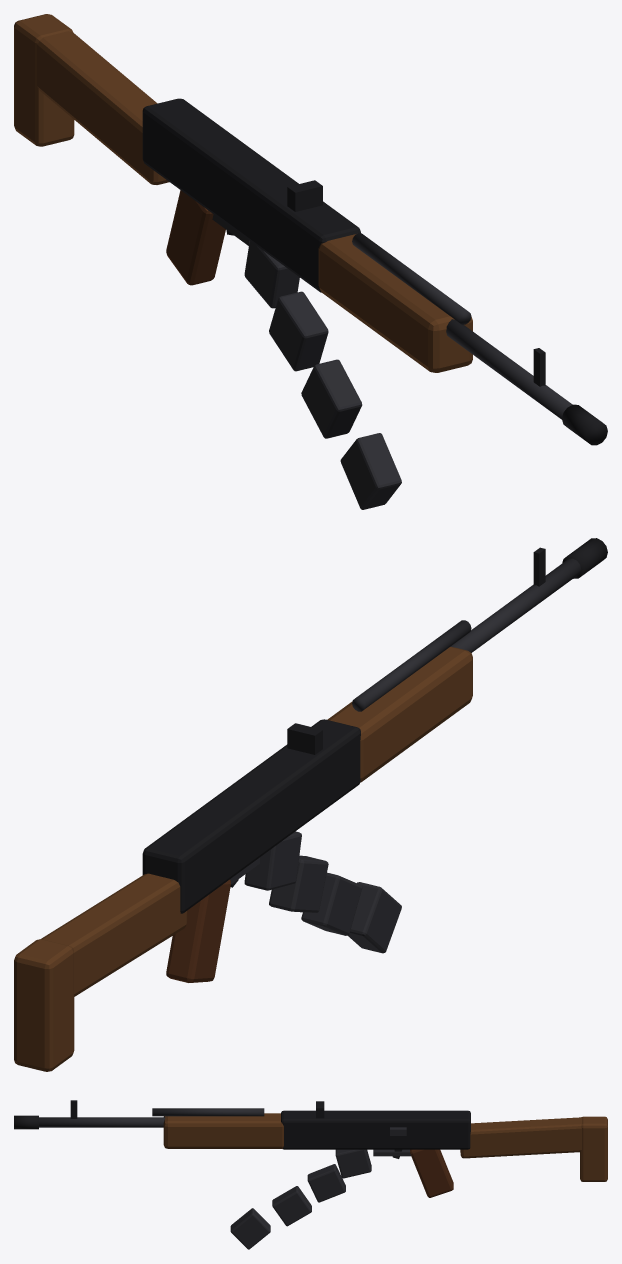
File: rifle.glb
3 renders of one model, top to bottom at view 1: azimuth 30°, elevation 25°; view 2: azimuth 150°, elevation 25°; view 3: azimuth 270°, elevation 25°, orthographic. The views are drawn at different scales.
Visible parts, largest first — view 1: rifle; view 2: rifle; view 3: rifle.
Boxes of the visible parts, x1,y1,x2,y2 form: rifle: (14, 14, 607, 509); rifle: (14, 538, 607, 1071); rifle: (14, 1100, 607, 1249).
Bounding box in the file's own units: 0.057 × 0.2882 × 1.06.
